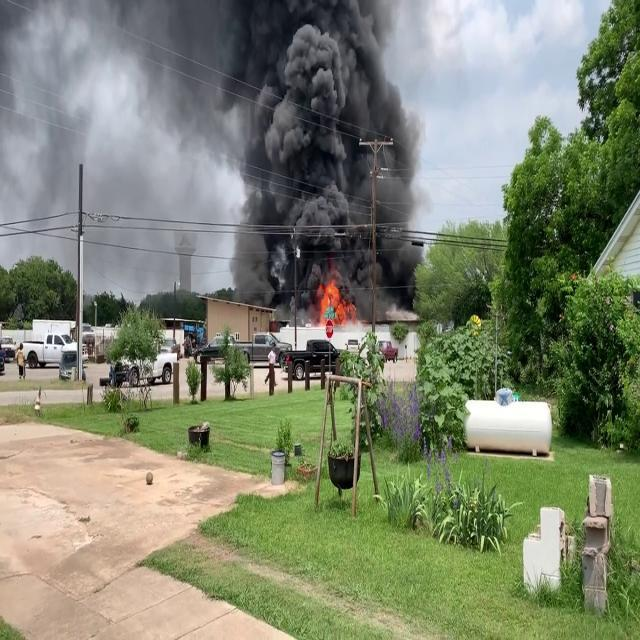Fire: (314, 275, 352, 322)
Smoke: (0, 0, 247, 282), (216, 0, 437, 308)
